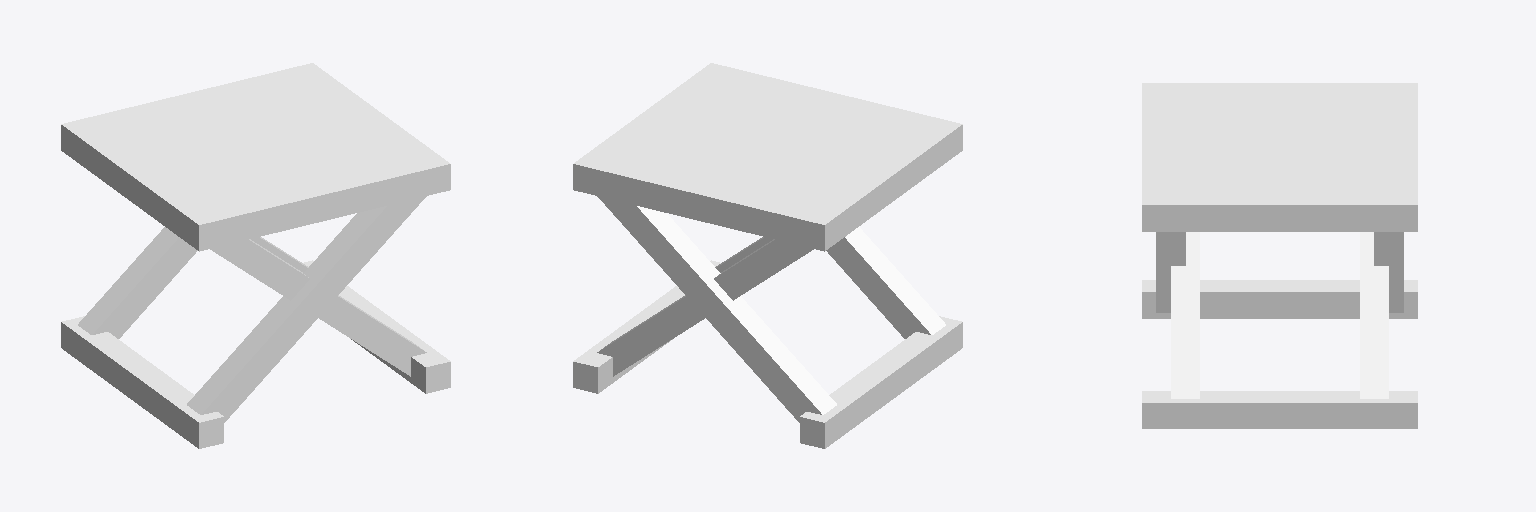
Rendered from folding_stool_wood.obj.
The picture shows the model from 3 angles: view 1: azimuth 30°, elevation 25°; view 2: azimuth 150°, elevation 25°; view 3: azimuth 270°, elevation 25°; orthographic projection.
Parts seen in each view (by area): view 1: wood, cuboid.000, cuboid.003, cuboid.005, cuboid, cuboid.001, cuboid.004, cuboid.006; view 2: wood, cuboid.001, cuboid.003, cuboid.005, cuboid.002, cuboid.000, cuboid.004, cuboid.006; view 3: wood, cuboid.004, cuboid.006, cuboid.005, cuboid, cuboid.002, cuboid.003, cuboid.000, cuboid.001.
Part boxes in pixels (left/top/right/bottom): wood: left=87, top=69, right=425, bottom=244; cuboid.000: left=187, top=196, right=426, bottom=422; cuboid.003: left=61, top=118, right=223, bottom=251; cuboid.005: left=61, top=316, right=223, bottom=448; cuboid: left=210, top=239, right=426, bottom=376; cuboid.001: left=78, top=227, right=197, bottom=338; cuboid.004: left=288, top=63, right=450, bottom=195; cuboid.006: left=303, top=260, right=450, bottom=393; wood: left=598, top=69, right=936, bottom=244; cuboid.001: left=597, top=196, right=836, bottom=422; cuboid.003: left=800, top=118, right=962, bottom=251; cuboid.005: left=800, top=316, right=962, bottom=448; cuboid.002: left=597, top=239, right=813, bottom=376; cuboid.000: left=826, top=227, right=945, bottom=338; cuboid.004: left=573, top=63, right=735, bottom=195; cuboid.006: left=573, top=260, right=720, bottom=393; wood: left=1142, top=95, right=1417, bottom=192; cuboid.004: left=1142, top=193, right=1417, bottom=231; cuboid.006: left=1142, top=391, right=1417, bottom=428; cuboid.005: left=1142, top=280, right=1417, bottom=318; cuboid: left=1171, top=232, right=1199, bottom=398; cuboid.002: left=1360, top=232, right=1388, bottom=398; cuboid.003: left=1142, top=83, right=1417, bottom=94; cuboid.000: left=1156, top=232, right=1185, bottom=312; cuboid.001: left=1374, top=232, right=1403, bottom=312.
Size of the model in its own units: 0.625 by 0.5312 by 0.5938.